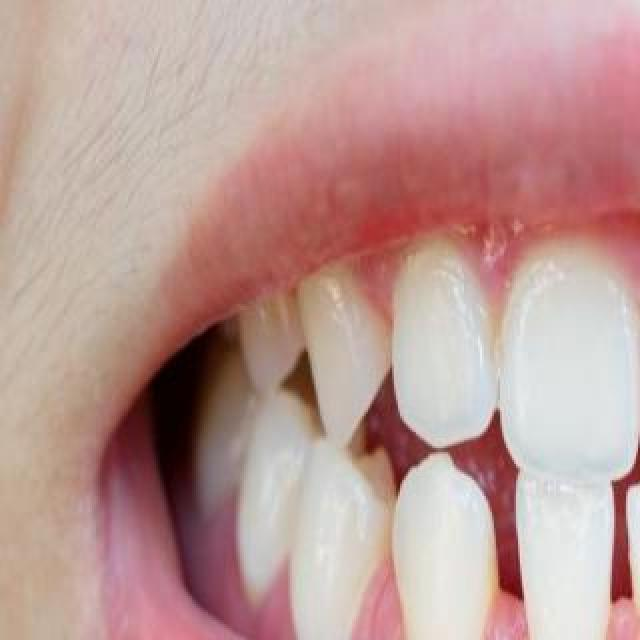spacing: (462, 496, 540, 640), (345, 482, 417, 592), (590, 482, 640, 628), (612, 336, 640, 478)
